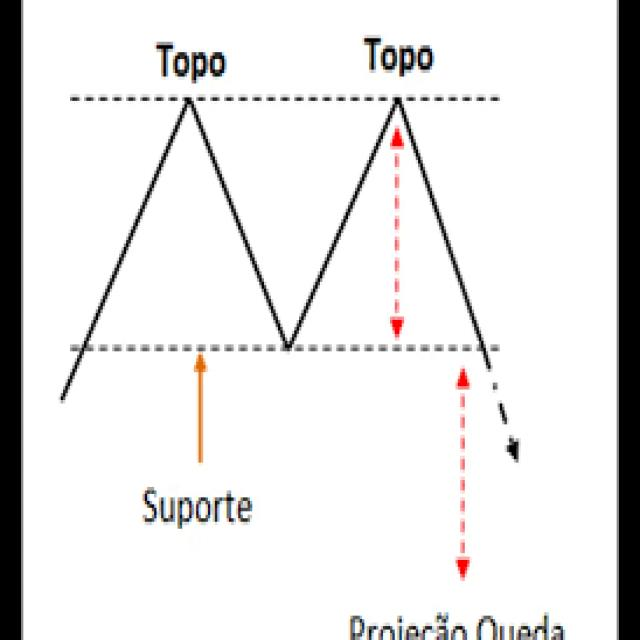topo_duplo: (56, 94, 523, 388)
